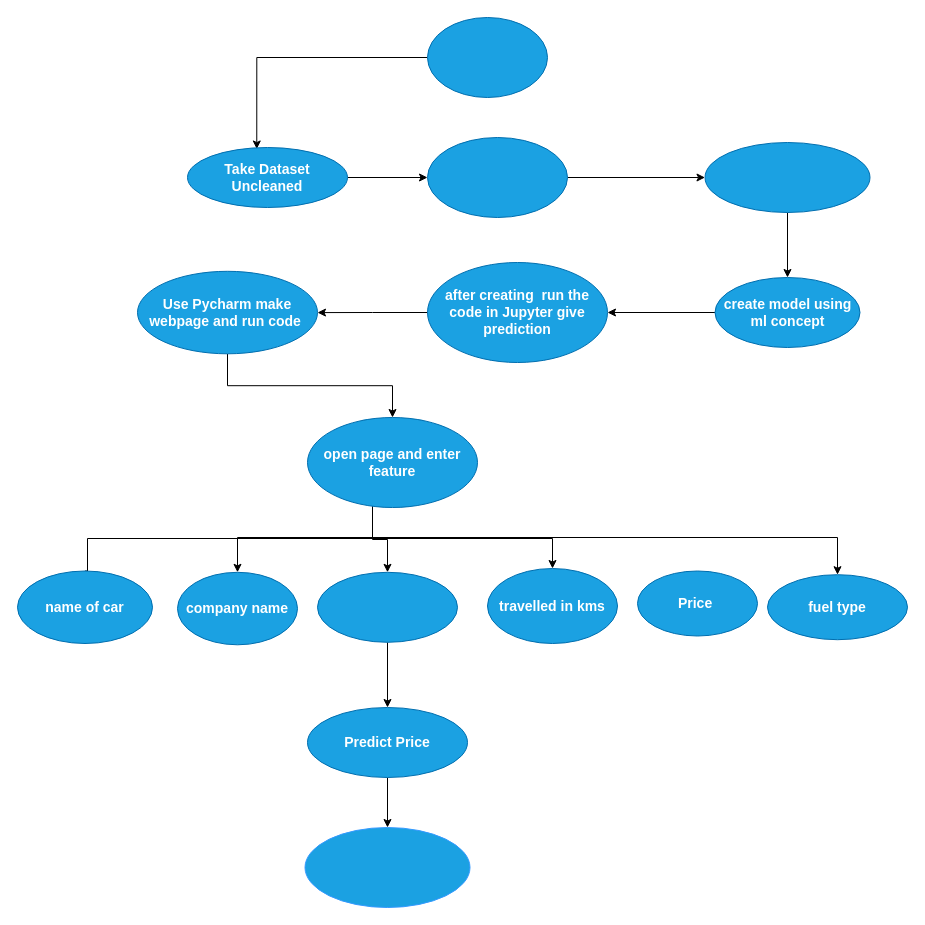
Image size: 925x925. Some labels were removed from this diagram. Each missing label, with the centre of its shape:
"check error in dataset" belongs at point (497, 177).
"cleaned dataset and save" belongs at point (787, 177).
"In Webpage predict page" belongs at point (387, 867).
"Start" belongs at point (487, 57).
"year" belongs at point (387, 606).
